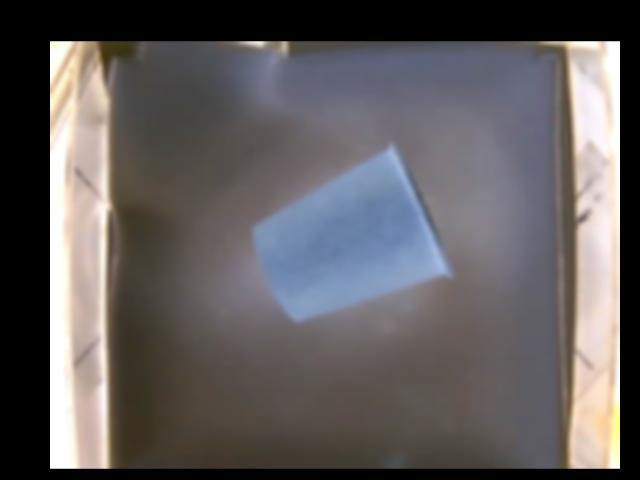Cup: (250, 144, 452, 320)
